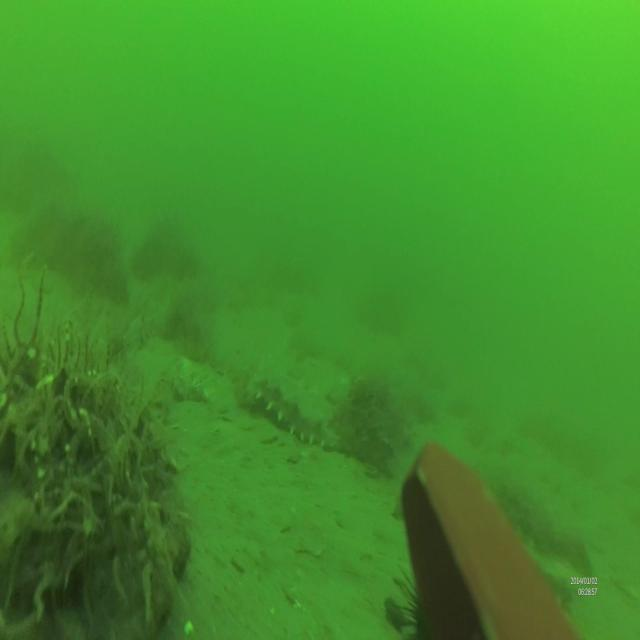echinus: (392, 564, 466, 640)
holothurian: (242, 365, 359, 451)
